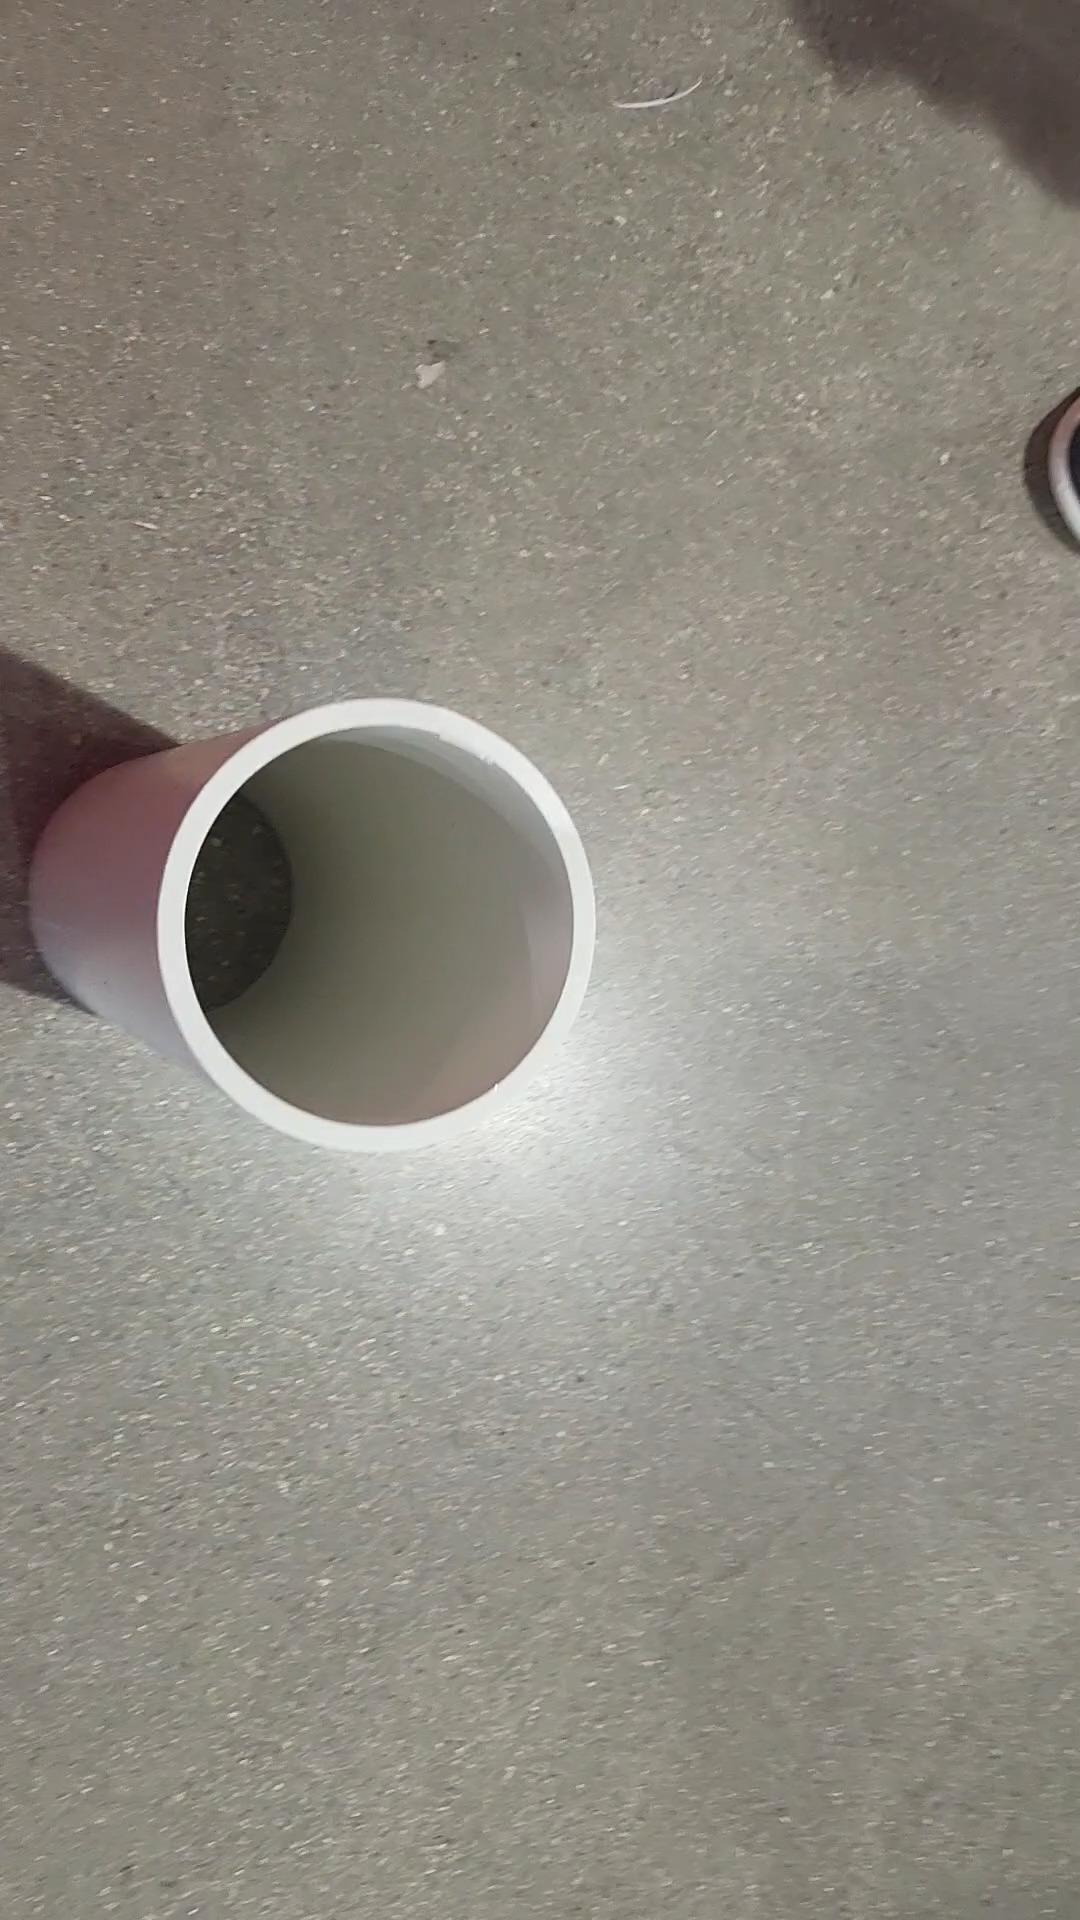coral: (40, 698, 595, 1153)
